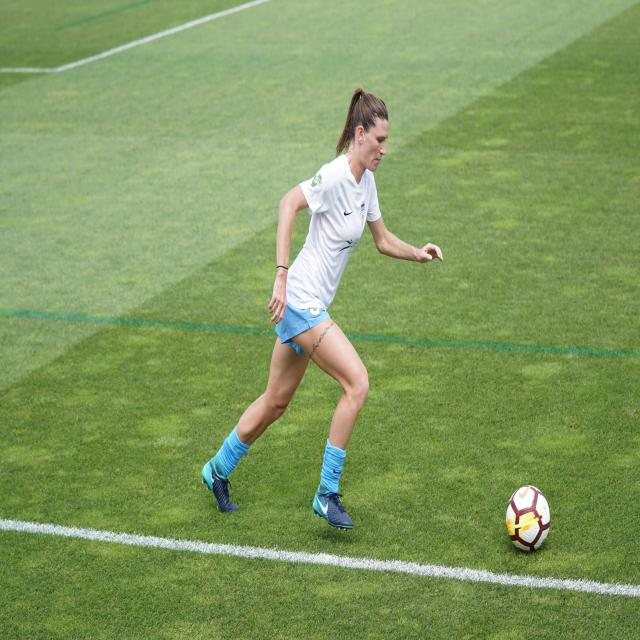running: (198, 81, 446, 533)
